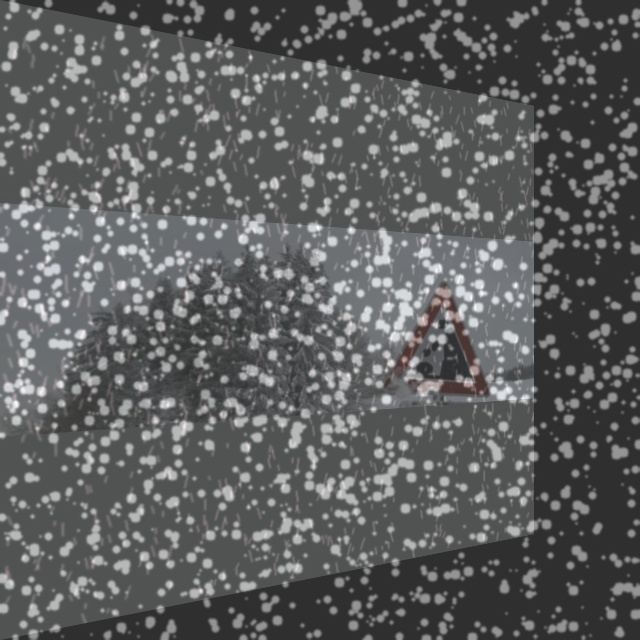Falling_Rocks: (388, 278, 489, 404)
